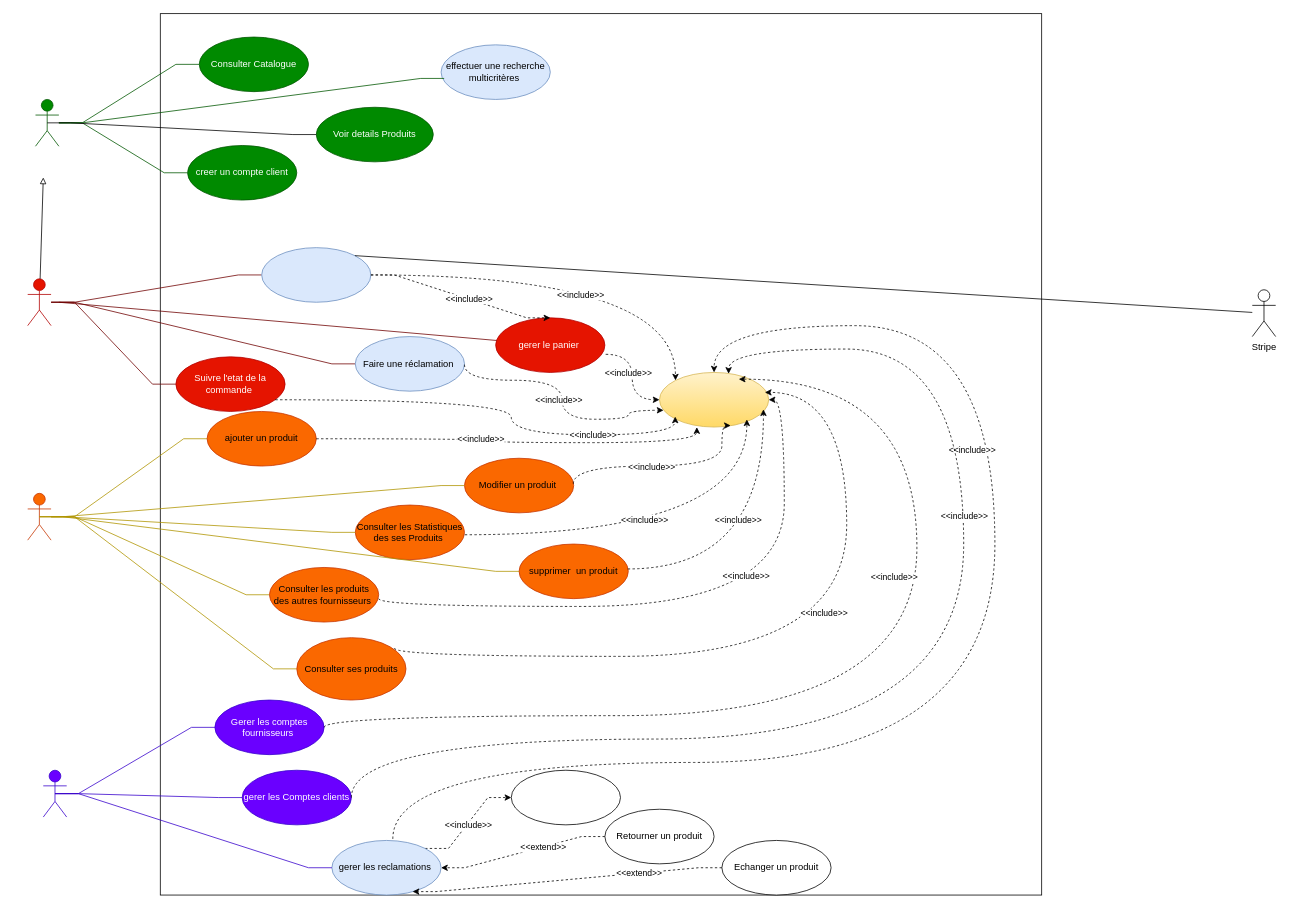
Image size: 1289x912. Some labels were removed from this diagram. Here are the shapes that lost their labels. From the top down, the box of each, then its label:
(35, 99, 59, 146): Visiteur
(261, 247, 371, 302): passer commande
(27, 278, 51, 326): Client
(659, 372, 769, 427): Se Connecter
(27, 493, 51, 540): Fournisseur
(43, 769, 67, 817): Administrateur
(511, 769, 620, 825): Contacter le client
